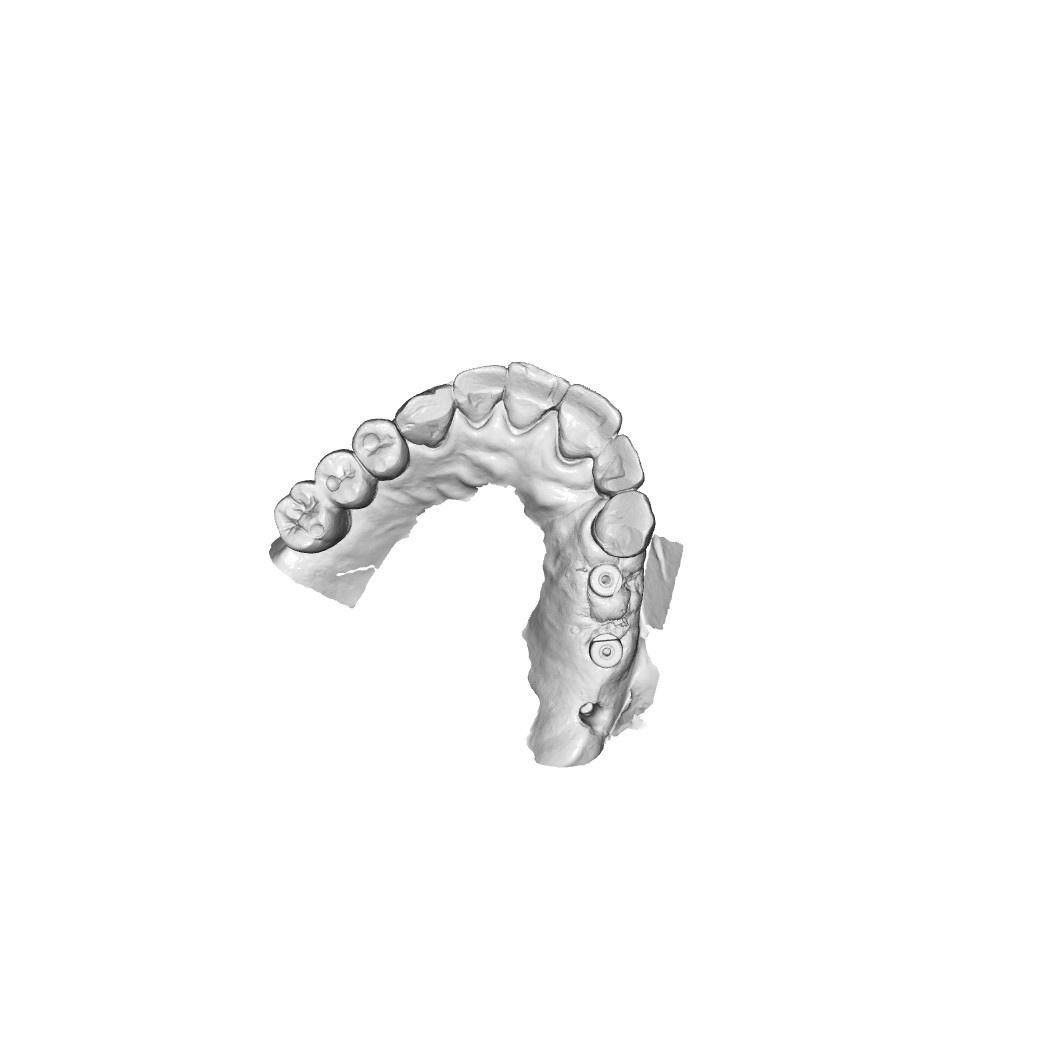canine: (588, 489, 658, 558), (394, 383, 456, 448)
implant: (586, 563, 622, 602), (588, 630, 624, 668)
incisor: (503, 357, 573, 431), (557, 381, 626, 452), (587, 431, 645, 496), (452, 362, 508, 425)
molar: (269, 479, 351, 556)
premolar: (347, 415, 411, 484), (310, 448, 374, 507)
